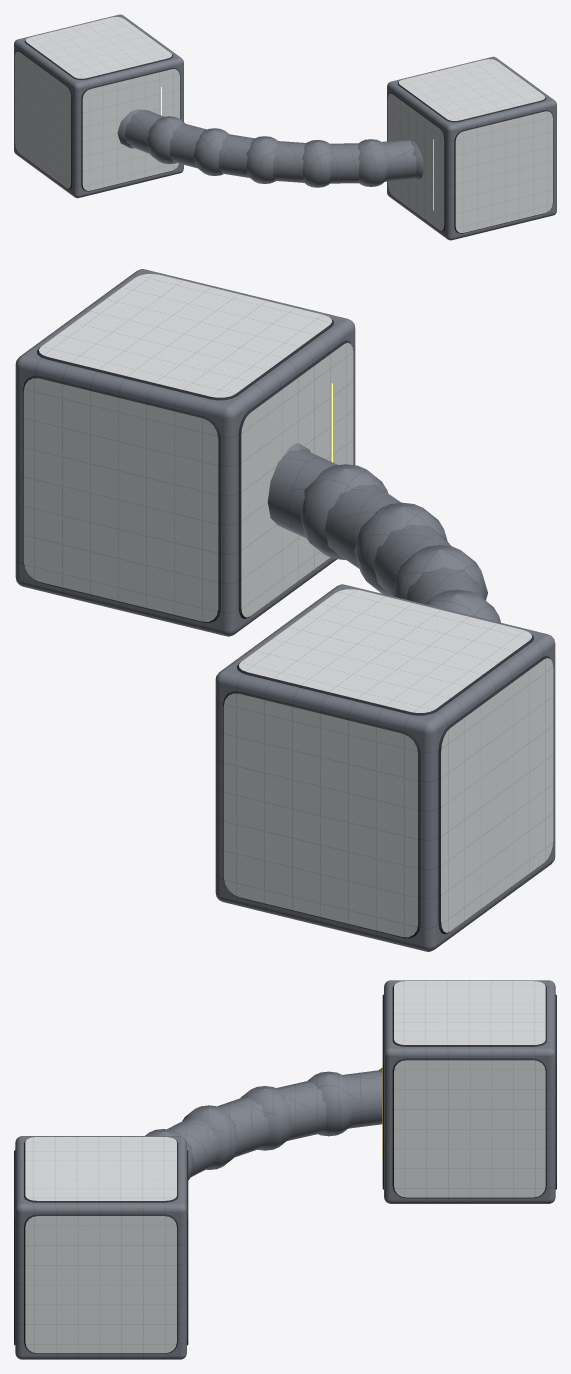
The model's file is R4C_STRUT_ARC.glb.
3 views of the same model, one above another, from view 1: azimuth 30°, elevation 25°; view 2: azimuth 150°, elevation 25°; view 3: azimuth 270°, elevation 25° (orthographic). The views are drawn at different scales.
Visible parts, largest first — view 1: R4C_STRUT_ARC; view 2: R4C_STRUT_ARC; view 3: R4C_STRUT_ARC.
Part boxes in pixels (x1,y1,x2,y2): R4C_STRUT_ARC: (14,14,556,240); R4C_STRUT_ARC: (15,269,555,951); R4C_STRUT_ARC: (14,980,556,1359).
Size of the model in its own units: 1.62 by 0.52 by 1.62.
4 materials, 3 textured.
